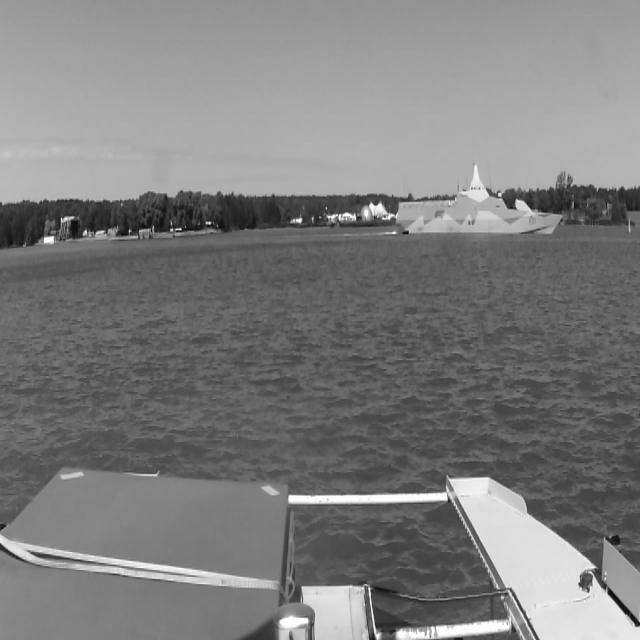ship: (396, 163, 562, 233)
